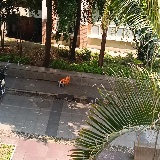fire: (61, 76, 70, 85)
